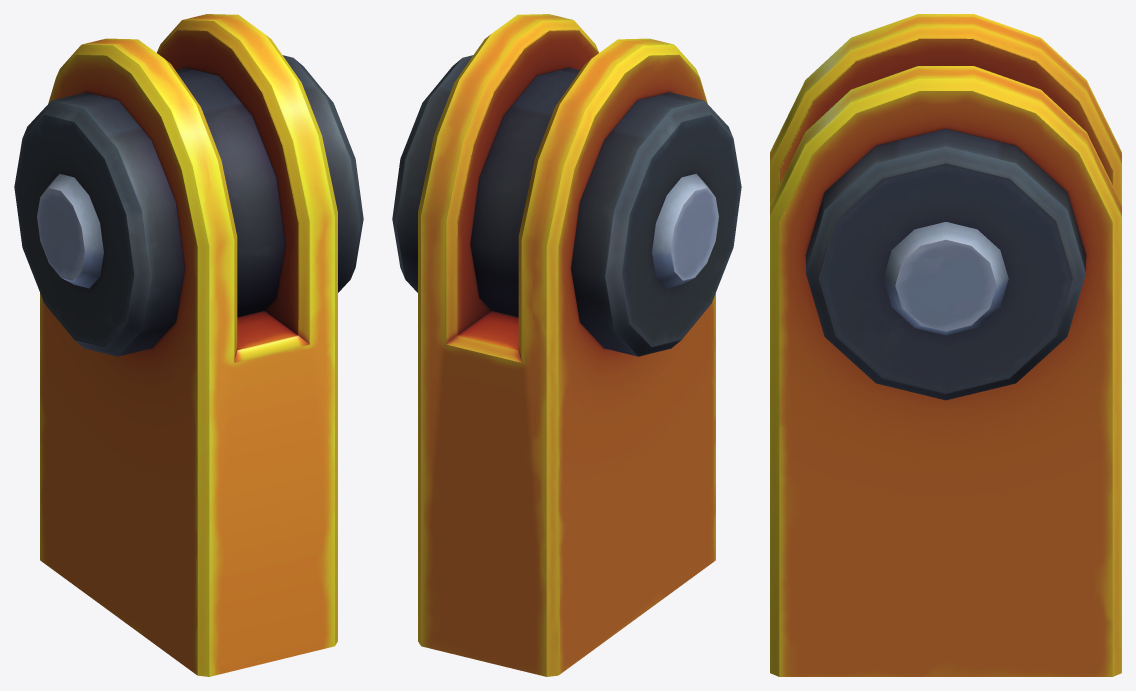
The model's file is pulley_anchor.fbx.
3 renders of one model, left to right at view 1: azimuth 30°, elevation 25°; view 2: azimuth 150°, elevation 25°; view 3: azimuth 270°, elevation 25°, orthographic. The views are drawn at different scales.
Visible parts, largest first — view 1: Cylinder.049, Cylinder.032; view 2: Cylinder.049, Cylinder.032; view 3: Cylinder.049, Cylinder.032.
Part boxes in pixels (<box>): Cylinder.049: <box>40,14,337,676</box>; Cylinder.032: <box>14,55,363,356</box>; Cylinder.049: <box>418,14,715,676</box>; Cylinder.032: <box>392,55,741,356</box>; Cylinder.049: <box>770,14,1121,676</box>; Cylinder.032: <box>806,129,1085,400</box>.
Size of the model in its own units: 43.76 by 91.61 by 49.15.
